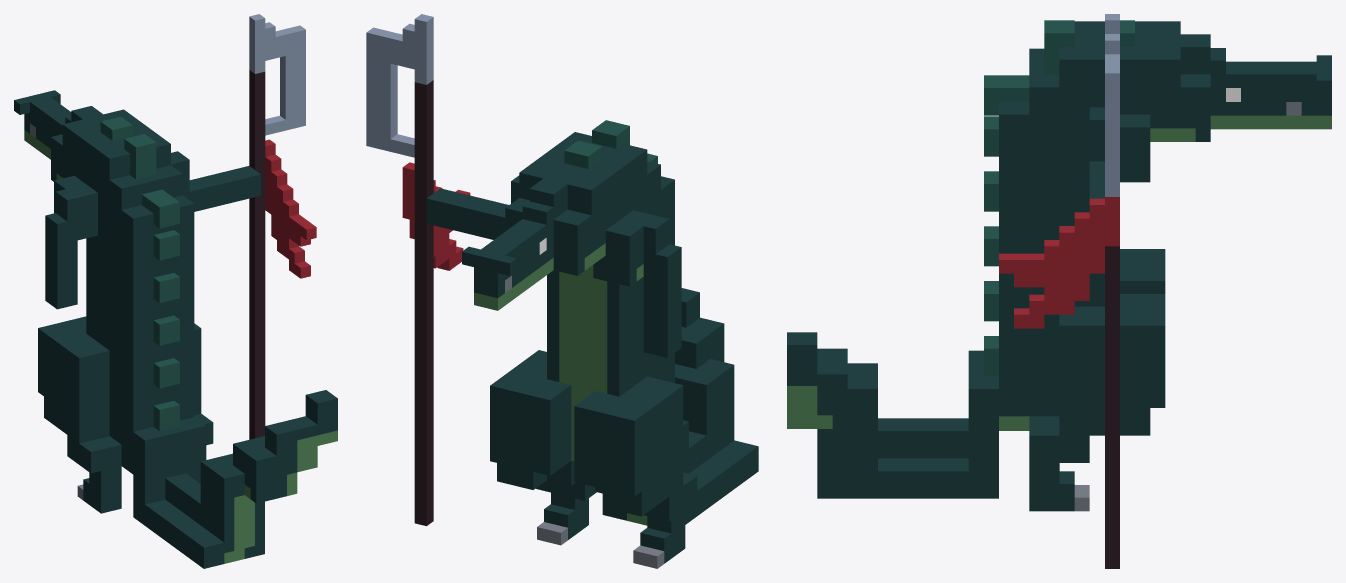
File: Crocsoldier.obj
3 views of the same model, side by side, from view 1: azimuth 30°, elevation 25°; view 2: azimuth 150°, elevation 25°; view 3: azimuth 270°, elevation 25° (orthographic). The views are drawn at different scales.
Bounding box in the file's own units: 2.5 × 4 × 3.6.
Materials: 1 (1 with a texture image).
